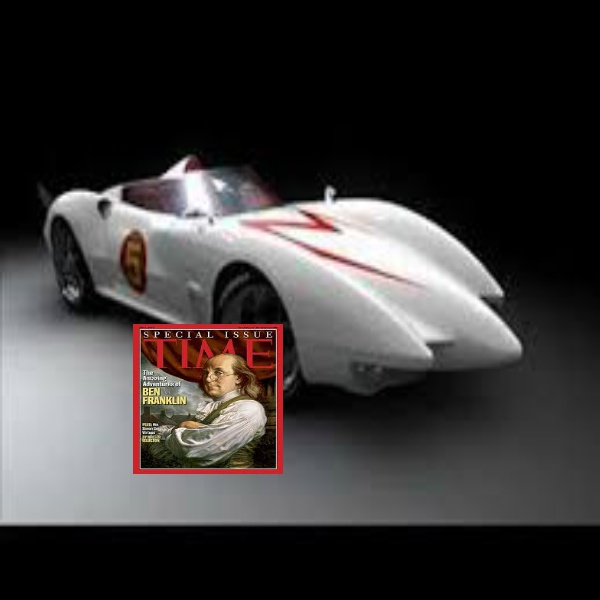time_cover: (129, 313, 289, 477)
